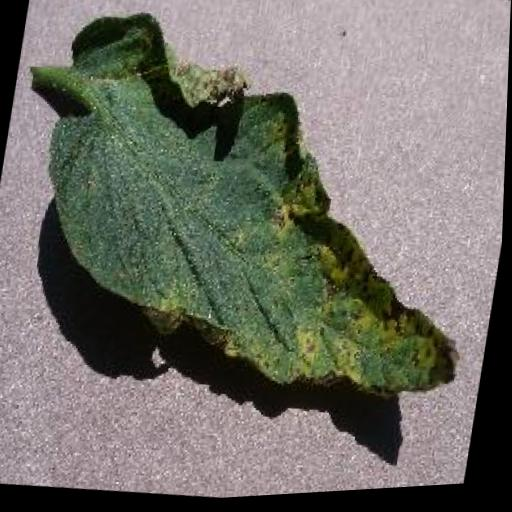Septoria: (13, 0, 512, 425)
